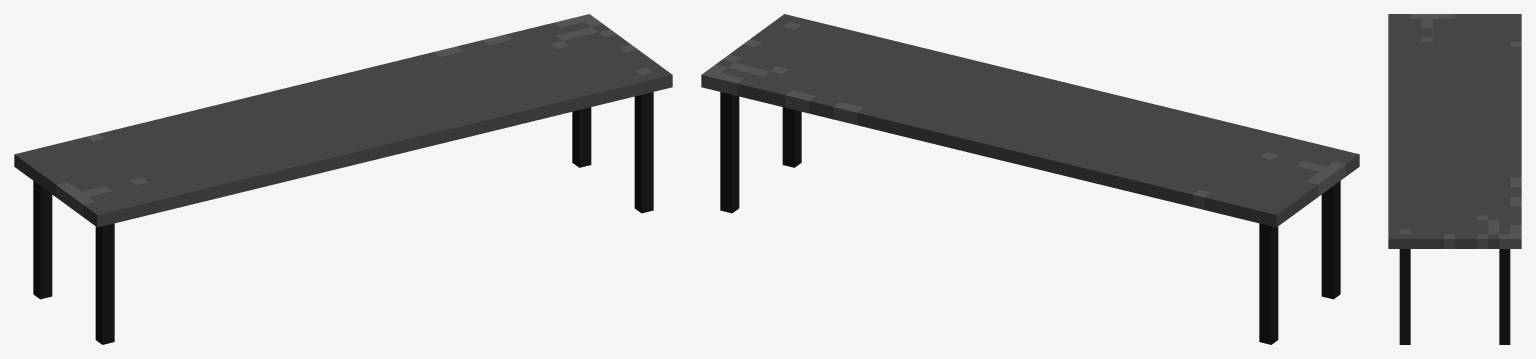
The model's file is Table.obj.
The picture shows the model from 3 angles, left to right: view 1: azimuth 30°, elevation 25°; view 2: azimuth 150°, elevation 25°; view 3: azimuth 270°, elevation 25°; orthographic projection. The views are drawn at different scales.
Bounding box in the file's own units: 4.8 × 1.1 × 1.2.
1 material, 1 textured.
